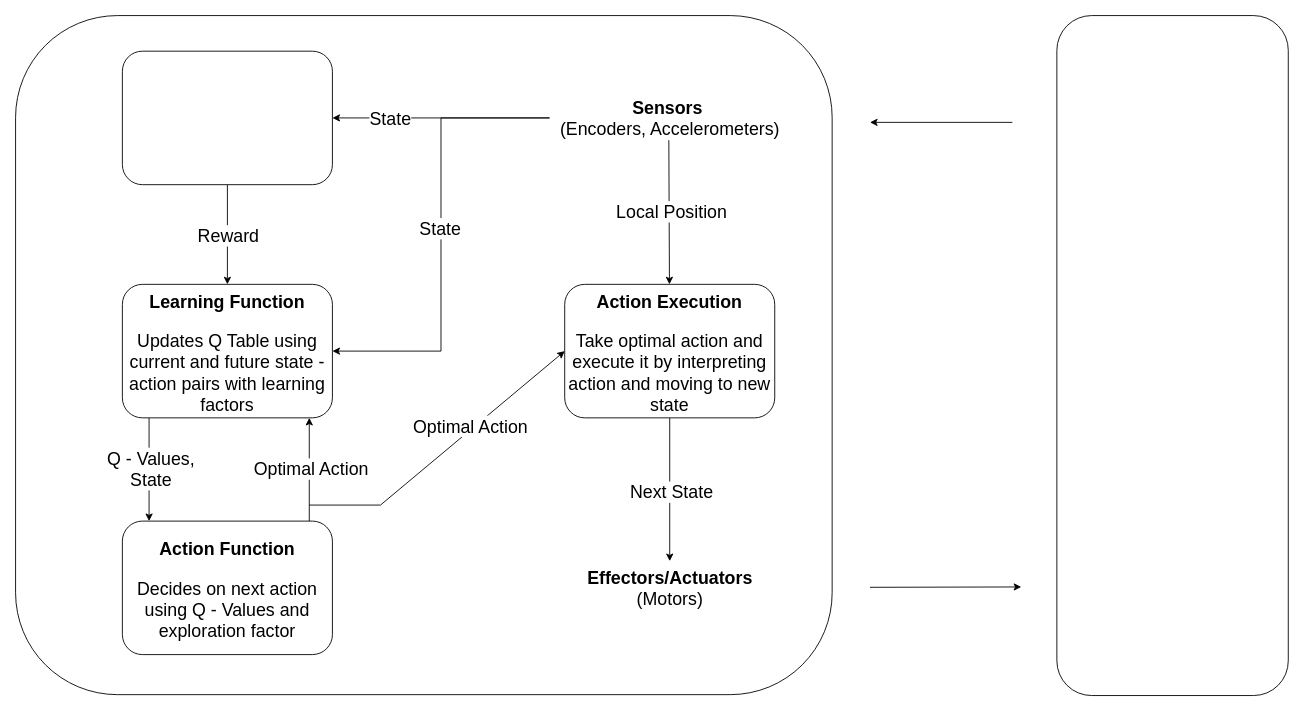
Image size: 1304x711. Some labels were removed from this diagram. The shapes that lost their labels are listed below. From the top down, each one's centre as x and y in pixels, then its label:
(226,117): Reward Function Given by result of the previous action taken
(1172,355): Environment Surface Map
